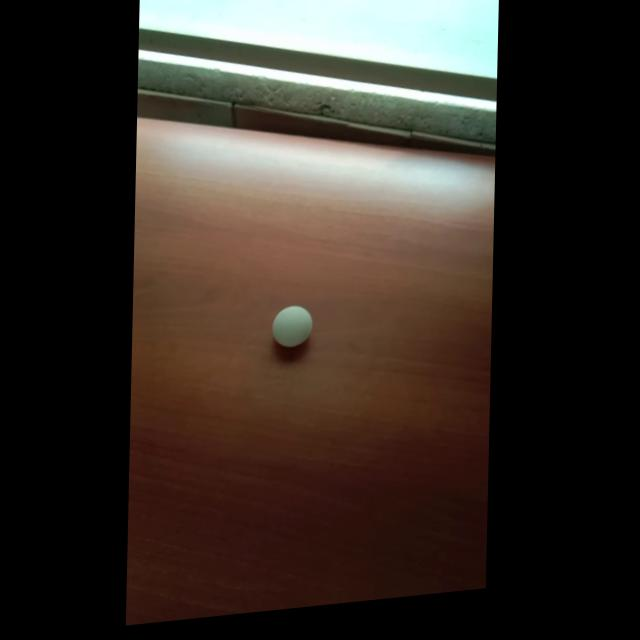white ball: (271, 304, 313, 350)
